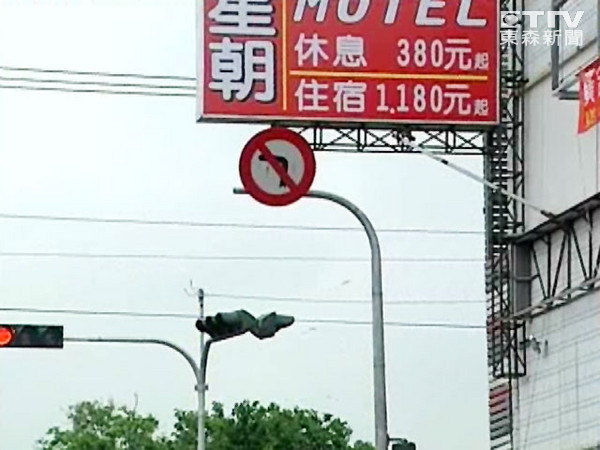No_left_turn: (239, 127, 315, 208)
